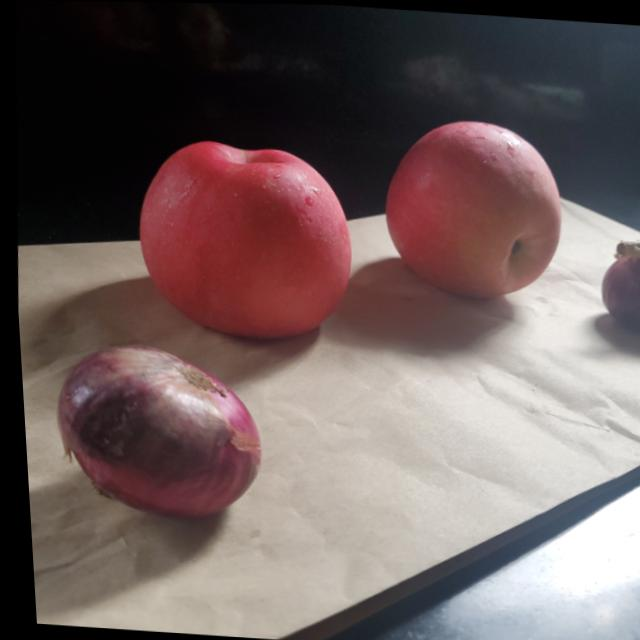apple: (127, 139, 359, 345), (371, 112, 565, 299)
onion: (48, 339, 269, 522), (593, 234, 640, 333)
